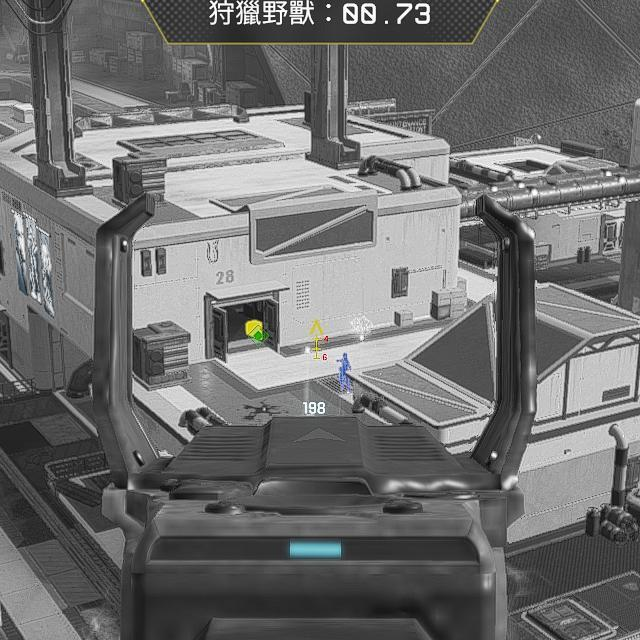avatar: (336, 351, 353, 393)
